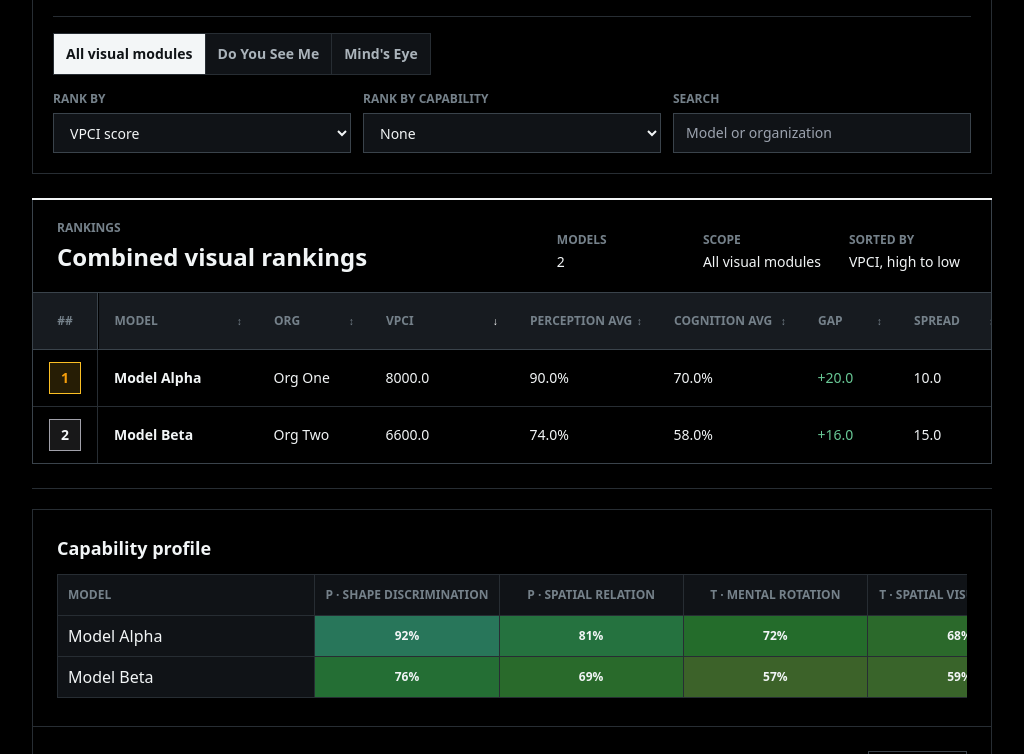
Test case: leaderboard filter contracts › keeps benchmark run metadata attached to the matching model report section
The width and height of the screenshot is (1024, 754).
(page scrolled)
Click the button with aria-label "View model report for Model Alpha": coordinates (178, 378) [114,368,242,388]
(page scrolled)
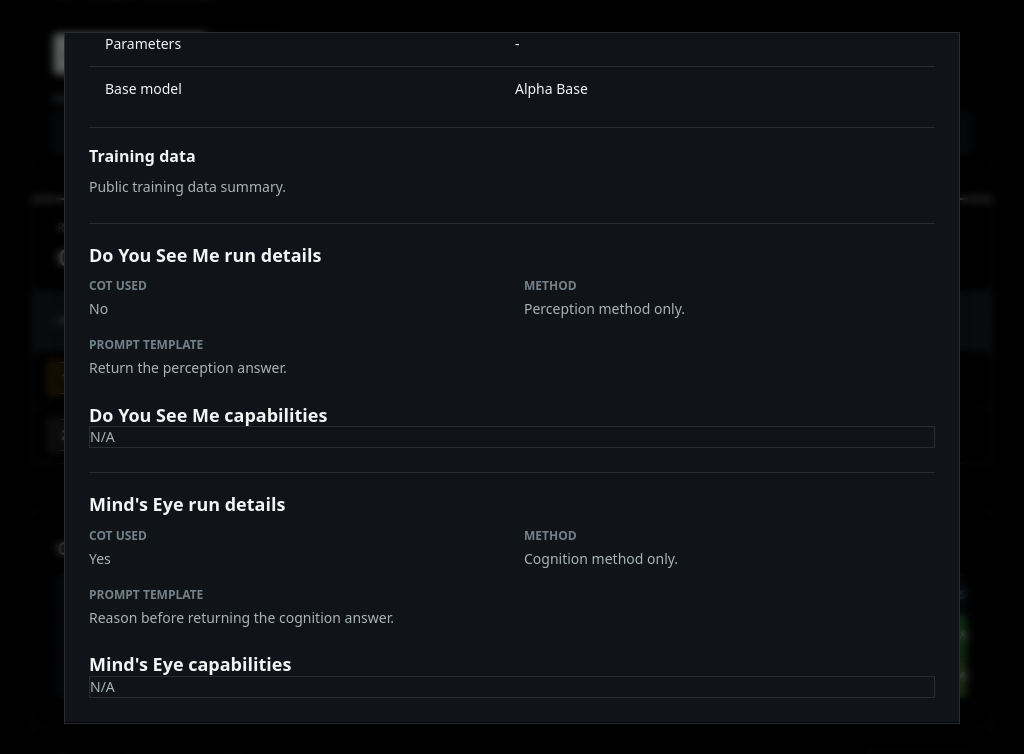
Now the heading "Do You See Me run details" is shown, box [89,243,321,267]
Now the text "Perception method only." is shown, box [524,299,685,318]
Now the heading "Mind's Eye run details" is shown, box [89,492,285,516]
